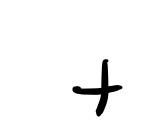plus: (72, 58, 122, 116)
